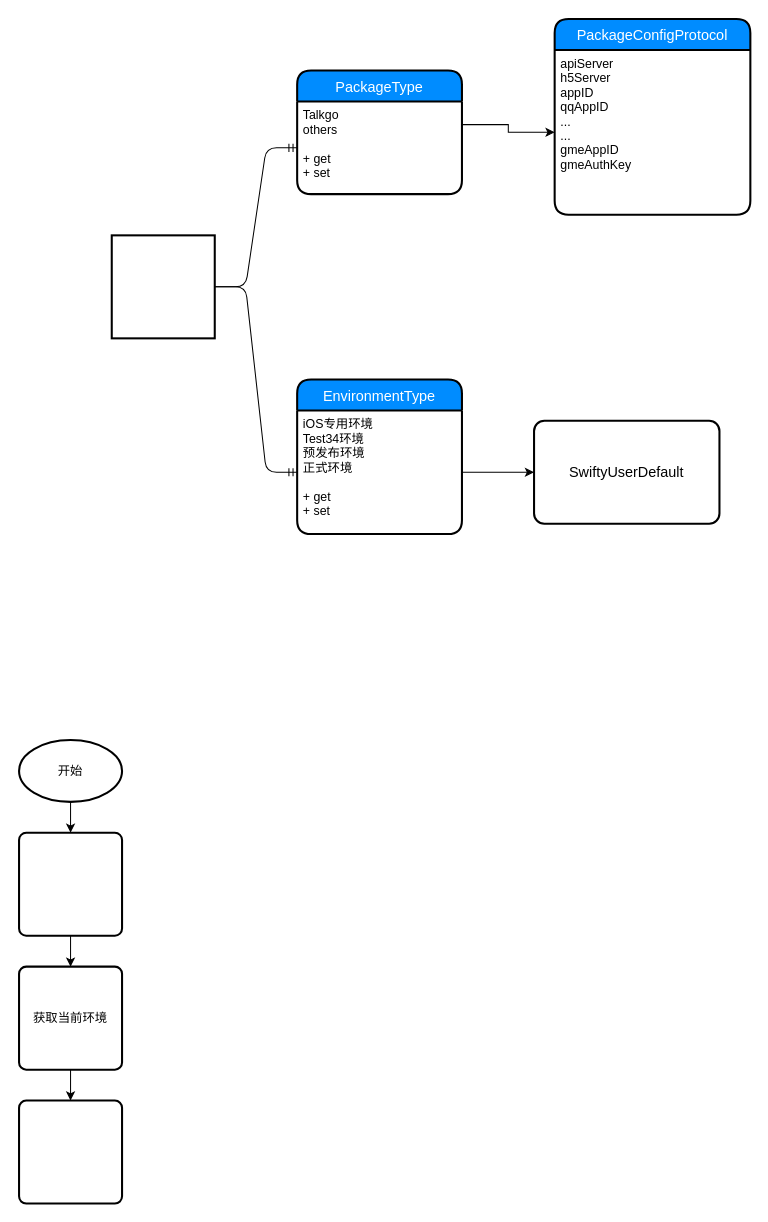
Some shapes in this 768 by 1222 pixel diagram are drawn without their labels. Here are the shapes that lost their labels. From the top down, the box of each, then its label:
(110, 234, 215, 339): ProjectConfig
(18, 831, 123, 936): 配置当前包名
(18, 1099, 123, 1204): 得到当前配置信息
